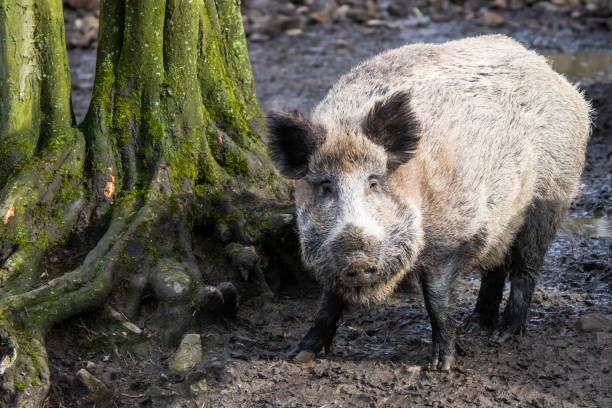pig: (266, 34, 594, 368)
